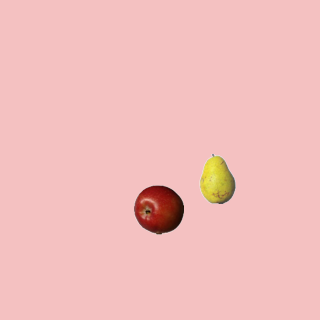Apple Braeburn: (133, 184, 183, 234)
Pear Monster: (192, 153, 242, 203)
